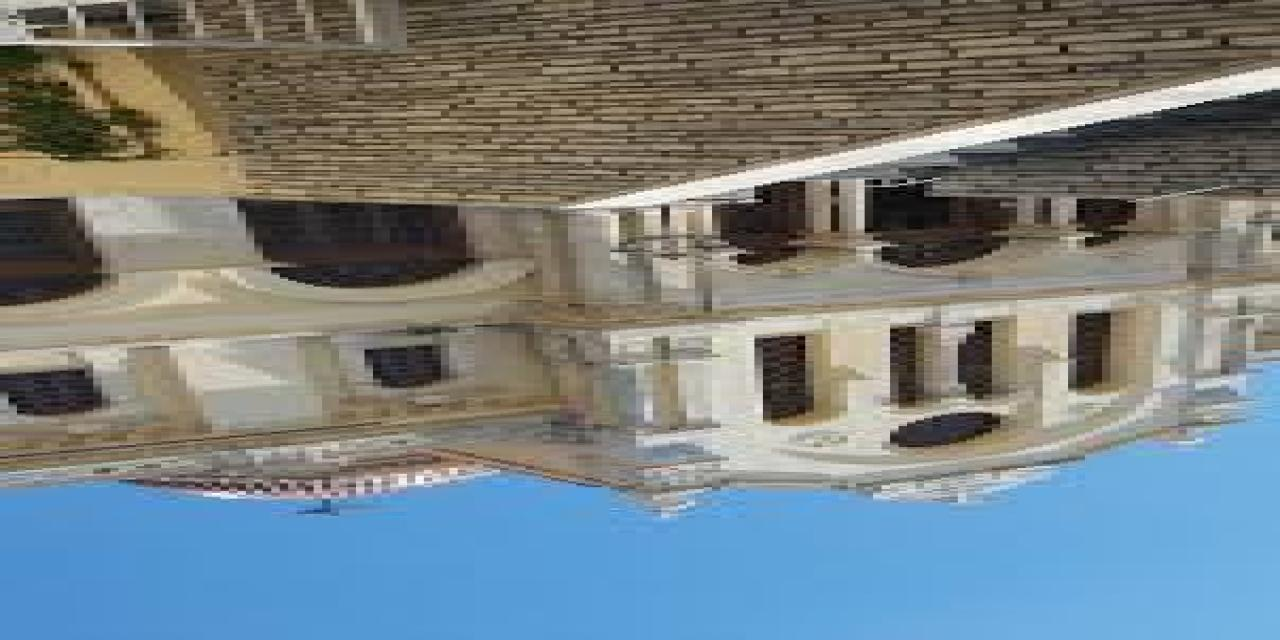Agios Minas: (20, 170, 1280, 546)
